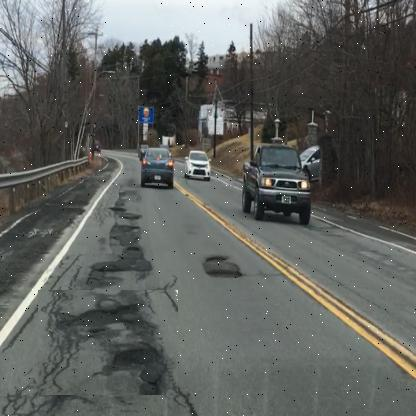damage: (37, 290, 178, 396), (85, 196, 150, 285)
